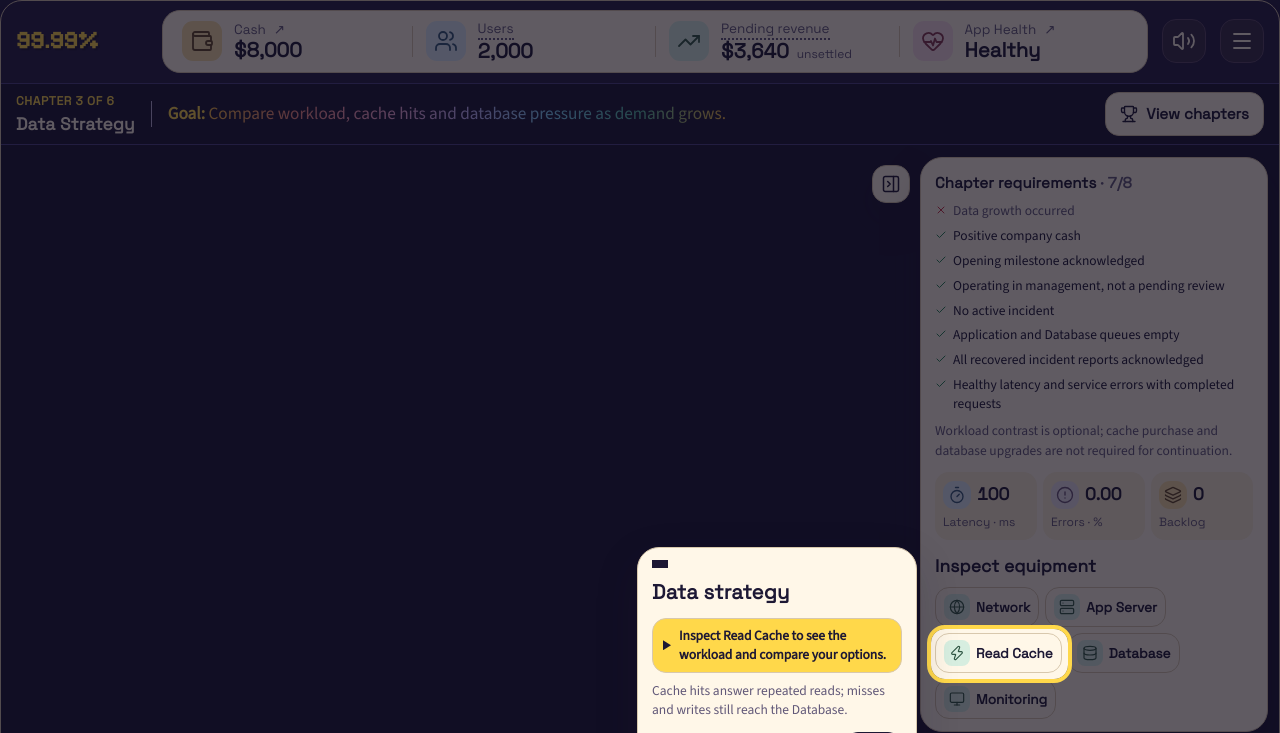
it: closes the Data strategy guide and its spotlight once the player opens equipment
Expected: the dialog named "Chapter guide, step 1 of 1" shows "Data strategy", left=652, top=579, right=790, bottom=605
Any equipment counts, not only the one the guide points at.
Click the button "Database" at (1124, 654), box left=1068, top=634, right=1180, bottom=674
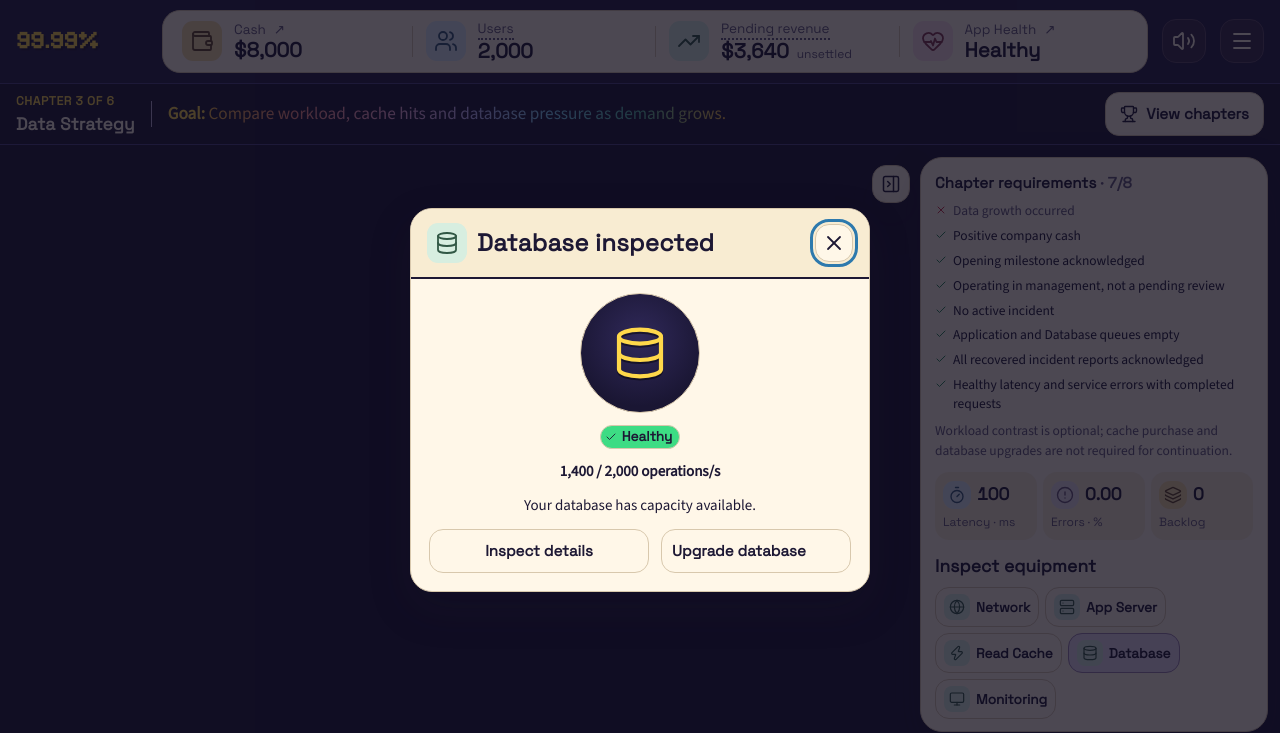
Result: the dialog "Database inspected" is shown at left=410, top=208, right=870, bottom=592
